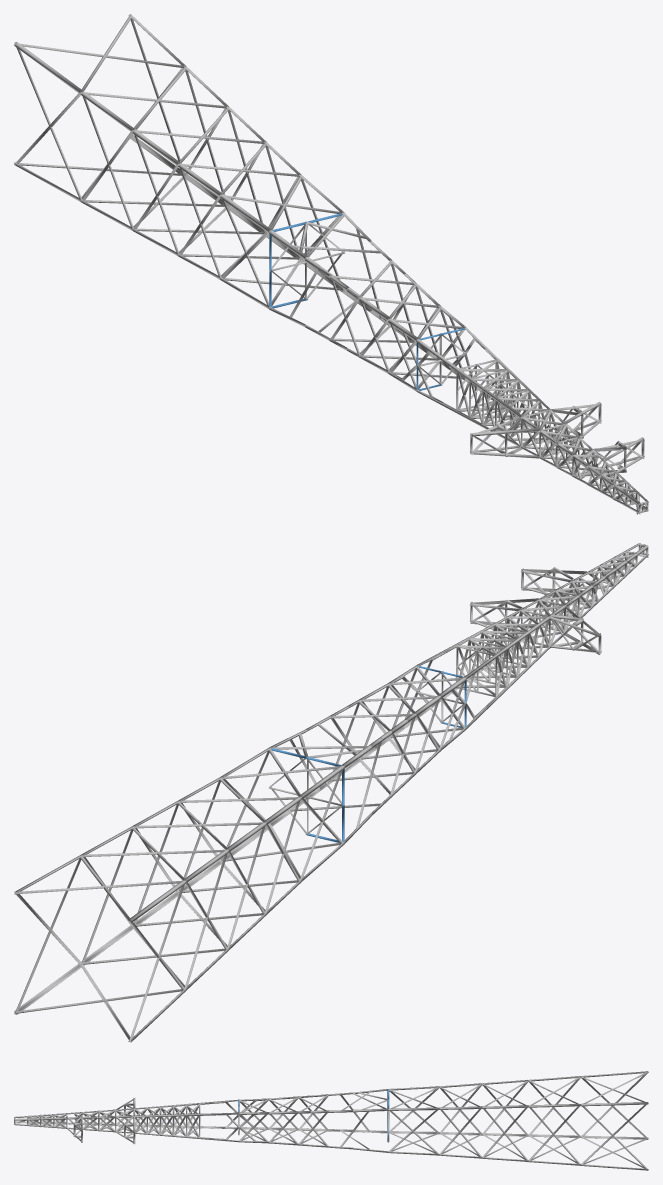
Rendered from tower.glb.
3 renders of one model, top to bottom at view 1: azimuth 30°, elevation 25°; view 2: azimuth 150°, elevation 25°; view 3: azimuth 270°, elevation 25°, orthographic. The views are drawn at different scales.
Visible parts, largest first — view 1: no part large enough to name; view 2: no part large enough to name; view 3: 4f_tps_leg_27400_33000_0, 4f_tps_leg_5500_9100_0, 4f_tps_yc_5500_9100_2, 4f_tps_yc_5500_9100_5, 4f_tps_leg_27400_33000_3, 4f_tps_yc_5500_9100_8, 4f_tps_yc_5500_9100_11, 4f_tps_leg_5500_9100_9, 4f_tps_yc_9100_11900_5, 4f_tps_yc_9100_11900_2, 4f_tps_yc_9100_11900_8.
Part boxes in pixels (bbox=[...]): 4f_tps_leg_27400_33000_0: bbox=[134, 1112, 238, 1117]; 4f_tps_leg_5500_9100_0: bbox=[581, 1102, 648, 1106]; 4f_tps_yc_5500_9100_2: bbox=[581, 1102, 648, 1164]; 4f_tps_yc_5500_9100_5: bbox=[581, 1104, 648, 1170]; 4f_tps_leg_27400_33000_3: bbox=[135, 1132, 238, 1142]; 4f_tps_yc_5500_9100_8: bbox=[580, 1071, 648, 1136]; 4f_tps_yc_5500_9100_11: bbox=[581, 1076, 648, 1138]; 4f_tps_leg_5500_9100_9: bbox=[581, 1135, 648, 1139]; 4f_tps_yc_9100_11900_5: bbox=[529, 1105, 580, 1163]; 4f_tps_yc_9100_11900_2: bbox=[529, 1104, 580, 1160]; 4f_tps_yc_9100_11900_8: bbox=[528, 1076, 580, 1135].
Bounding box in the file's own units: 4493 × 4080 × 33987.
